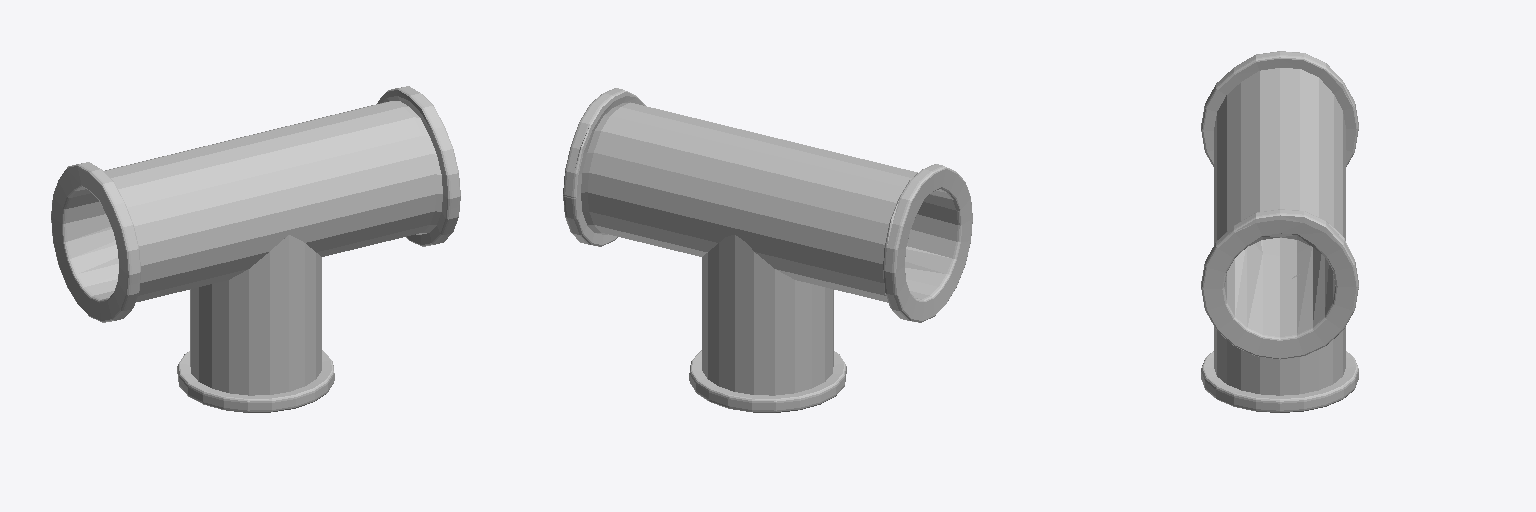
The model's file is pipe_01.obj.
3 renders of one model, left to right at view 1: azimuth 30°, elevation 25°; view 2: azimuth 150°, elevation 25°; view 3: azimuth 270°, elevation 25°, orthographic.
Parts seen in each view (by area): view 1: pipe_03, selection_03 pipe_03, selectoin_02 pipe_03; view 2: pipe_03, selection_03 pipe_03, selectoin_02 pipe_03; view 3: pipe_03, selection_03 pipe_03, selectoin_02 pipe_03.
Part boxes in pixels (bbox=[...]): pipe_03: bbox=[66, 101, 442, 395]; selection_03 pipe_03: bbox=[51, 86, 460, 322]; selectoin_02 pipe_03: bbox=[177, 350, 334, 412]; pipe_03: bbox=[581, 102, 957, 395]; selection_03 pipe_03: bbox=[563, 88, 972, 322]; selectoin_02 pipe_03: bbox=[689, 350, 846, 412]; pipe_03: bbox=[1214, 68, 1345, 395]; selection_03 pipe_03: bbox=[1201, 51, 1358, 359]; selectoin_02 pipe_03: bbox=[1201, 351, 1358, 412].
Bounding box in the file's own units: 4.17 × 2.98 × 1.71.